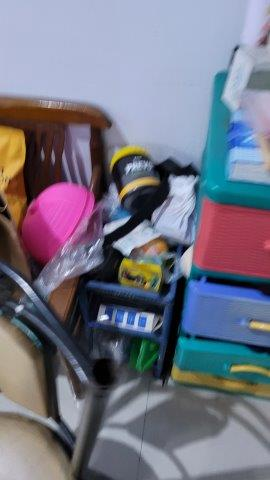plastik: (32, 211, 109, 302)
